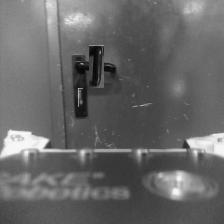Door Handle: (82, 52, 111, 82)
Lock: (78, 88, 83, 107)
